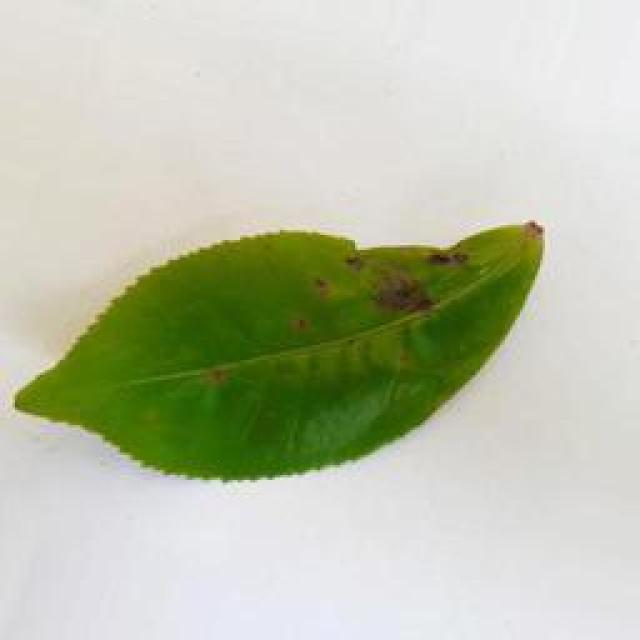Helopeltis: (6, 210, 562, 491)
